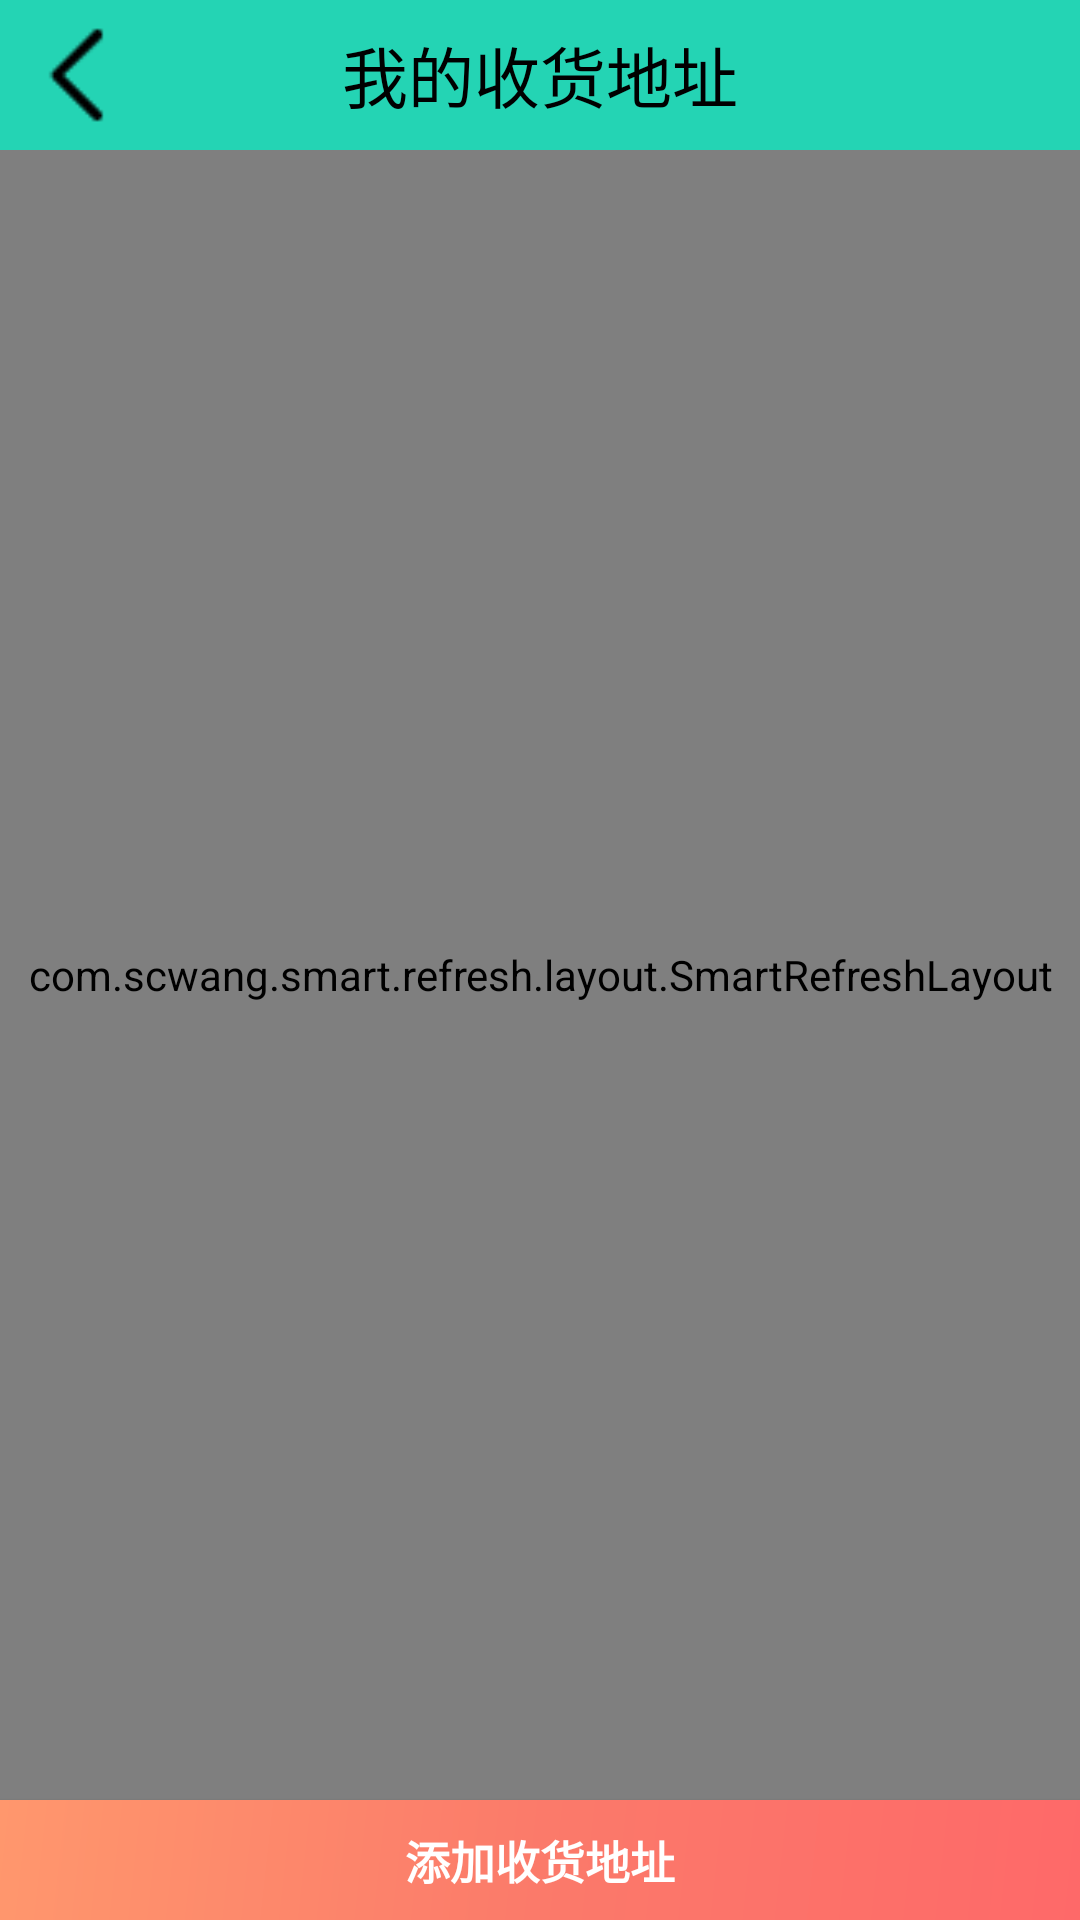

Named icons in this screenshot (1080px x 1920px) and their bounding boxes, [x1, y1, x2, y2]:
back: [49, 28, 103, 122]
